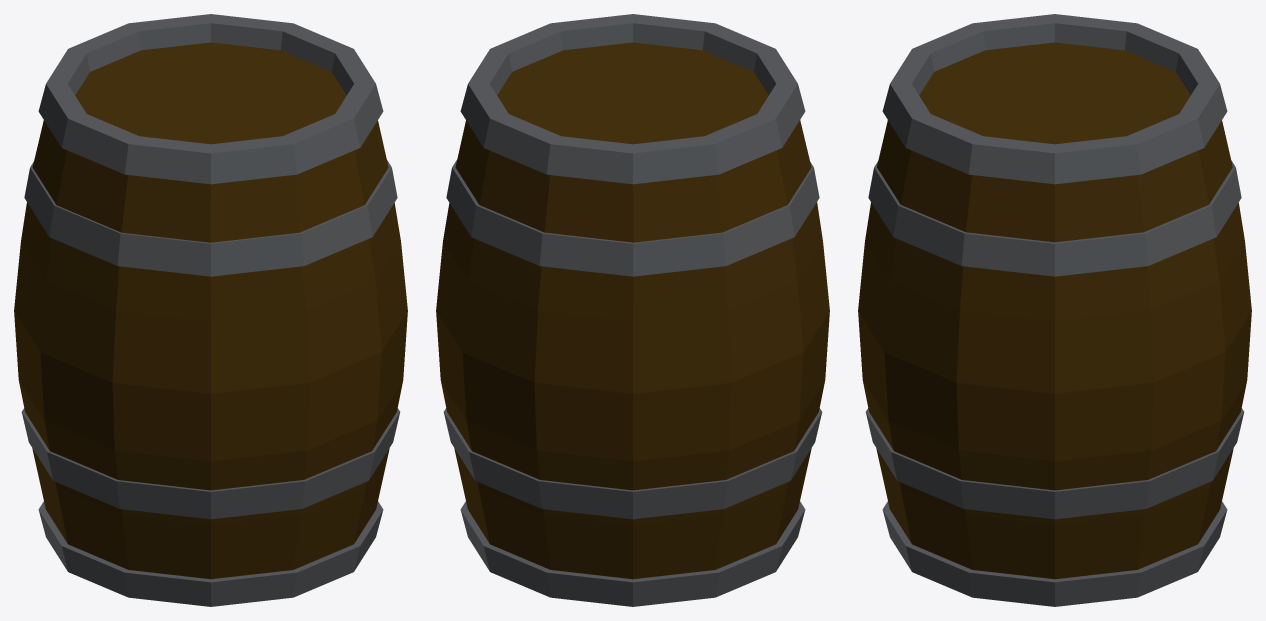
File: Barrel.fbx
3 views of the same model, side by side, from view 1: azimuth 30°, elevation 25°; view 2: azimuth 150°, elevation 25°; view 3: azimuth 270°, elevation 25° (orthographic).
Visible parts, largest first — view 1: Cylinder, Cylinder.001, Cylinder.003, Cylinder.004, Cylinder.002; view 2: Cylinder, Cylinder.001, Cylinder.003, Cylinder.004, Cylinder.002; view 3: Cylinder, Cylinder.001, Cylinder.003, Cylinder.004, Cylinder.002.
Part boxes in pixels (x1,y1,x2,y2): Cylinder: (14, 120, 407, 579); Cylinder.001: (38, 14, 383, 184); Cylinder.003: (24, 160, 397, 276); Cylinder.004: (21, 408, 400, 519); Cylinder.002: (38, 501, 383, 606); Cylinder: (436, 120, 829, 579); Cylinder.001: (460, 14, 805, 184); Cylinder.003: (446, 159, 819, 276); Cylinder.004: (443, 408, 822, 519); Cylinder.002: (460, 501, 805, 606); Cylinder: (858, 120, 1251, 579); Cylinder.001: (882, 14, 1227, 184); Cylinder.003: (868, 160, 1241, 276); Cylinder.004: (865, 408, 1244, 519); Cylinder.002: (882, 501, 1227, 606).
Bounding box in the file's own units: 242 × 307 × 242.
